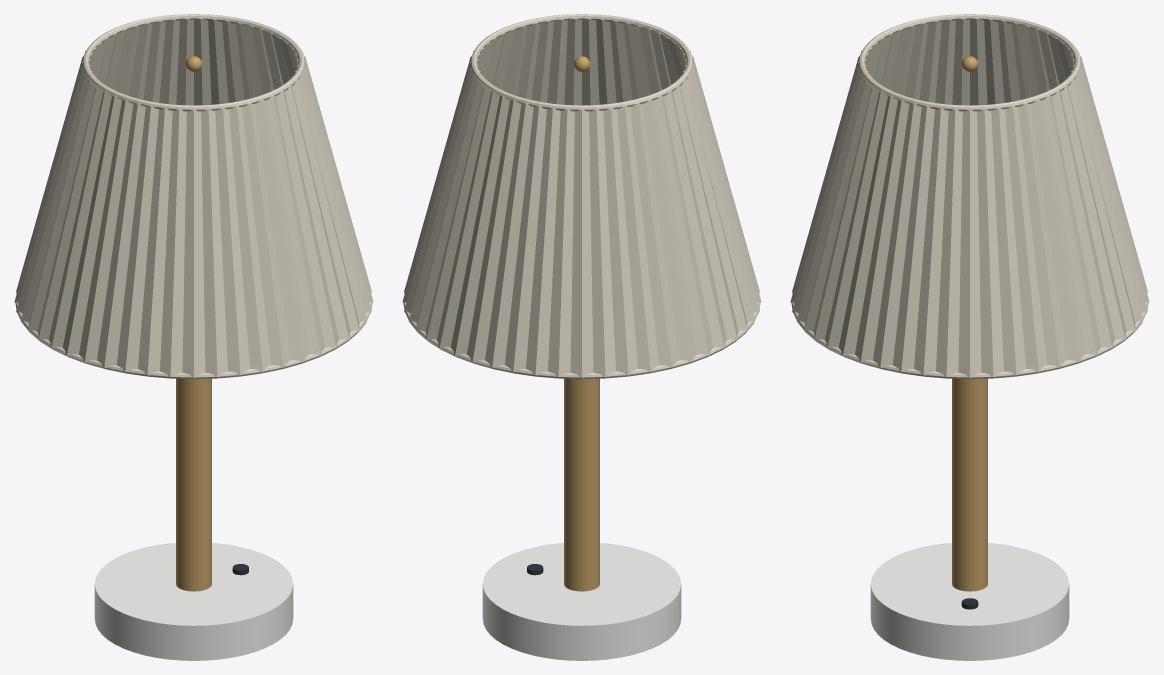
File: apartment-lamp-pleated.glb
3 renders of one model, left to right at view 1: azimuth 30°, elevation 25°; view 2: azimuth 150°, elevation 25°; view 3: azimuth 270°, elevation 25°, orthographic.
Visible parts, largest first — view 1: apartment-lamp-pleated authored assembly; view 2: apartment-lamp-pleated authored assembly; view 3: apartment-lamp-pleated authored assembly.
Part boxes in pixels (<box>): apartment-lamp-pleated authored assembly: <box>14,14,373,660</box>; apartment-lamp-pleated authored assembly: <box>402,14,761,660</box>; apartment-lamp-pleated authored assembly: <box>790,14,1149,660</box>.
Size of the model in its own units: 0.22 by 0.38 by 0.22.
